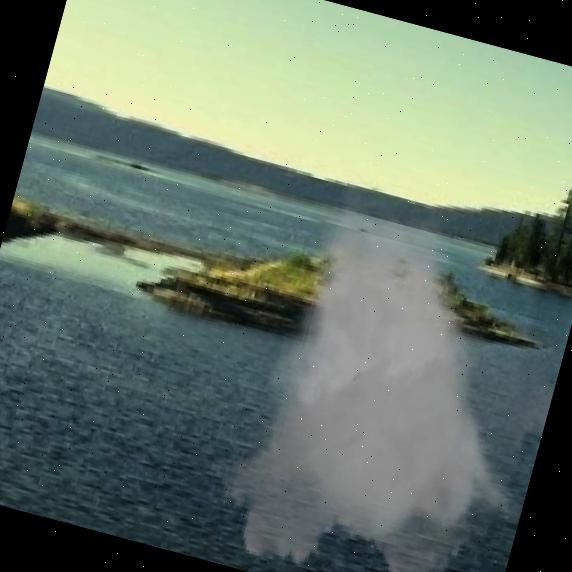smoke: (192, 167, 572, 572)
